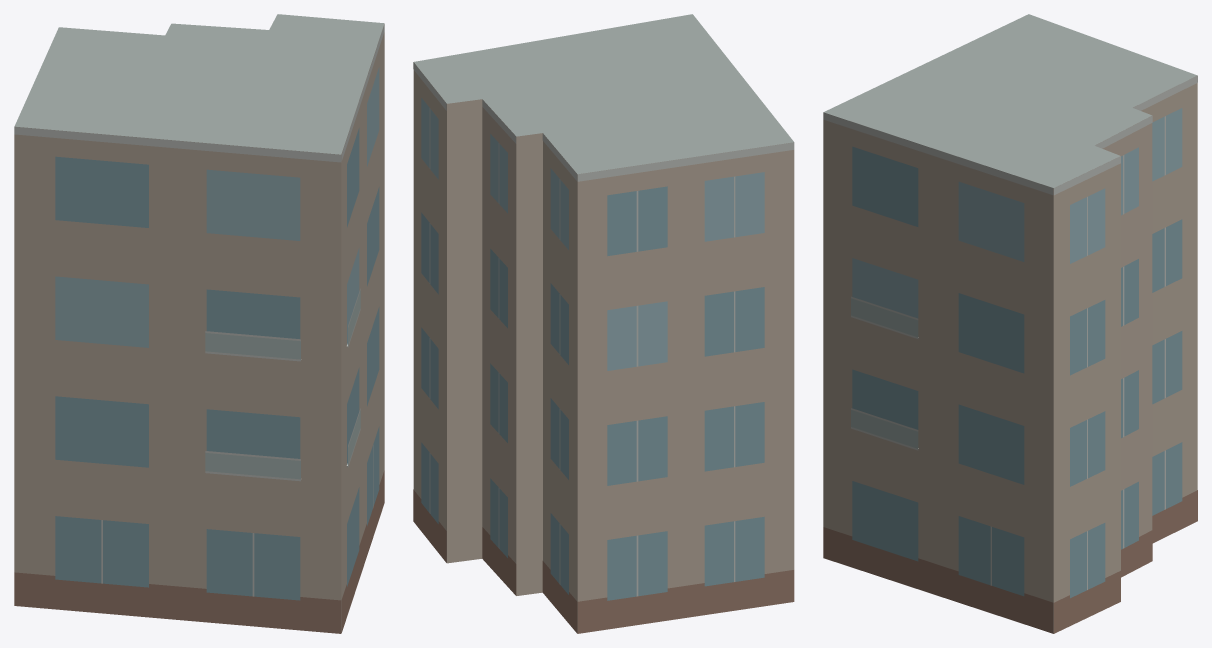
Rendered from survey-upis-32505696.glb.
3 renders of one model, left to right at view 1: azimuth 30°, elevation 25°; view 2: azimuth 150°, elevation 25°; view 3: azimuth 270°, elevation 25°, orthographic. The views are drawn at different scales.
Visible parts, largest first — view 1: survey-upis-32505696.tmp; view 2: survey-upis-32505696.tmp; view 3: survey-upis-32505696.tmp.
Boxes of the visible parts, box(x1,y1,x2,y2) form: survey-upis-32505696.tmp: box(14, 14, 384, 633); survey-upis-32505696.tmp: box(413, 14, 794, 633); survey-upis-32505696.tmp: box(823, 14, 1197, 633).
Size of the model in its own units: 12.49 by 14.9 by 11.35.
